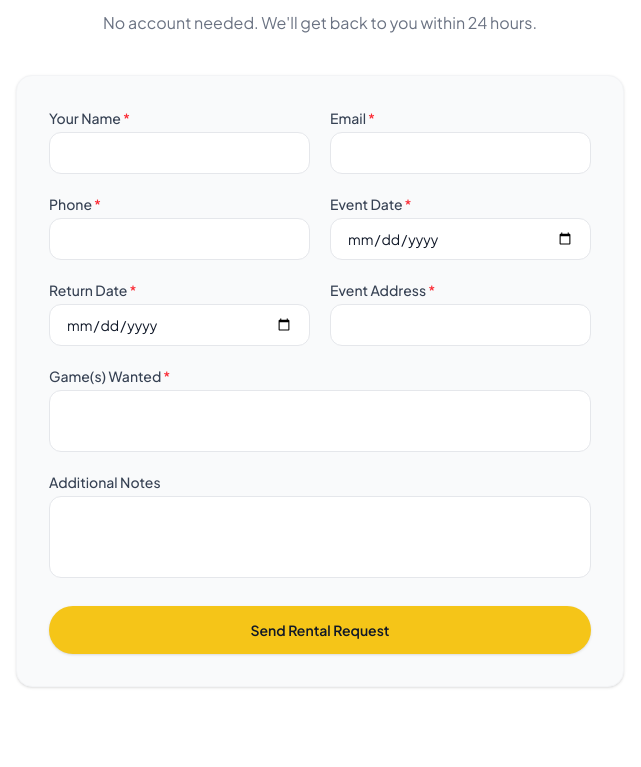
Scenario: RentalForm › submitting empty form shows validation errors
(page scrolled)
Click the button "Send Rental Request": (320, 630) top-left (49, 606), bottom-right (591, 654)
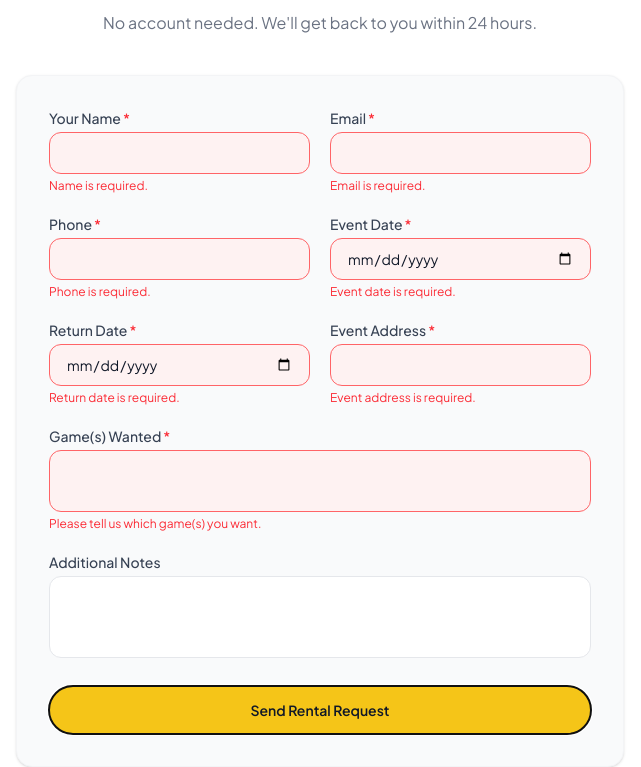
Result: the text "Name is required." is shown at top-left (49, 178), bottom-right (148, 193)
Result: the text "Email is required." is shown at top-left (330, 178), bottom-right (426, 193)
Result: the text "Phone is required." is shown at top-left (49, 284), bottom-right (151, 299)
